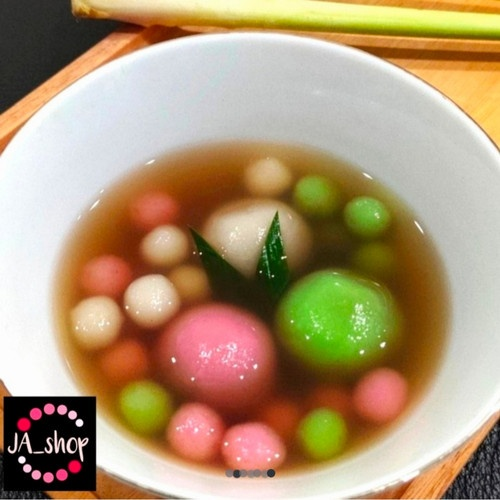ronde: (49, 142, 454, 476)
